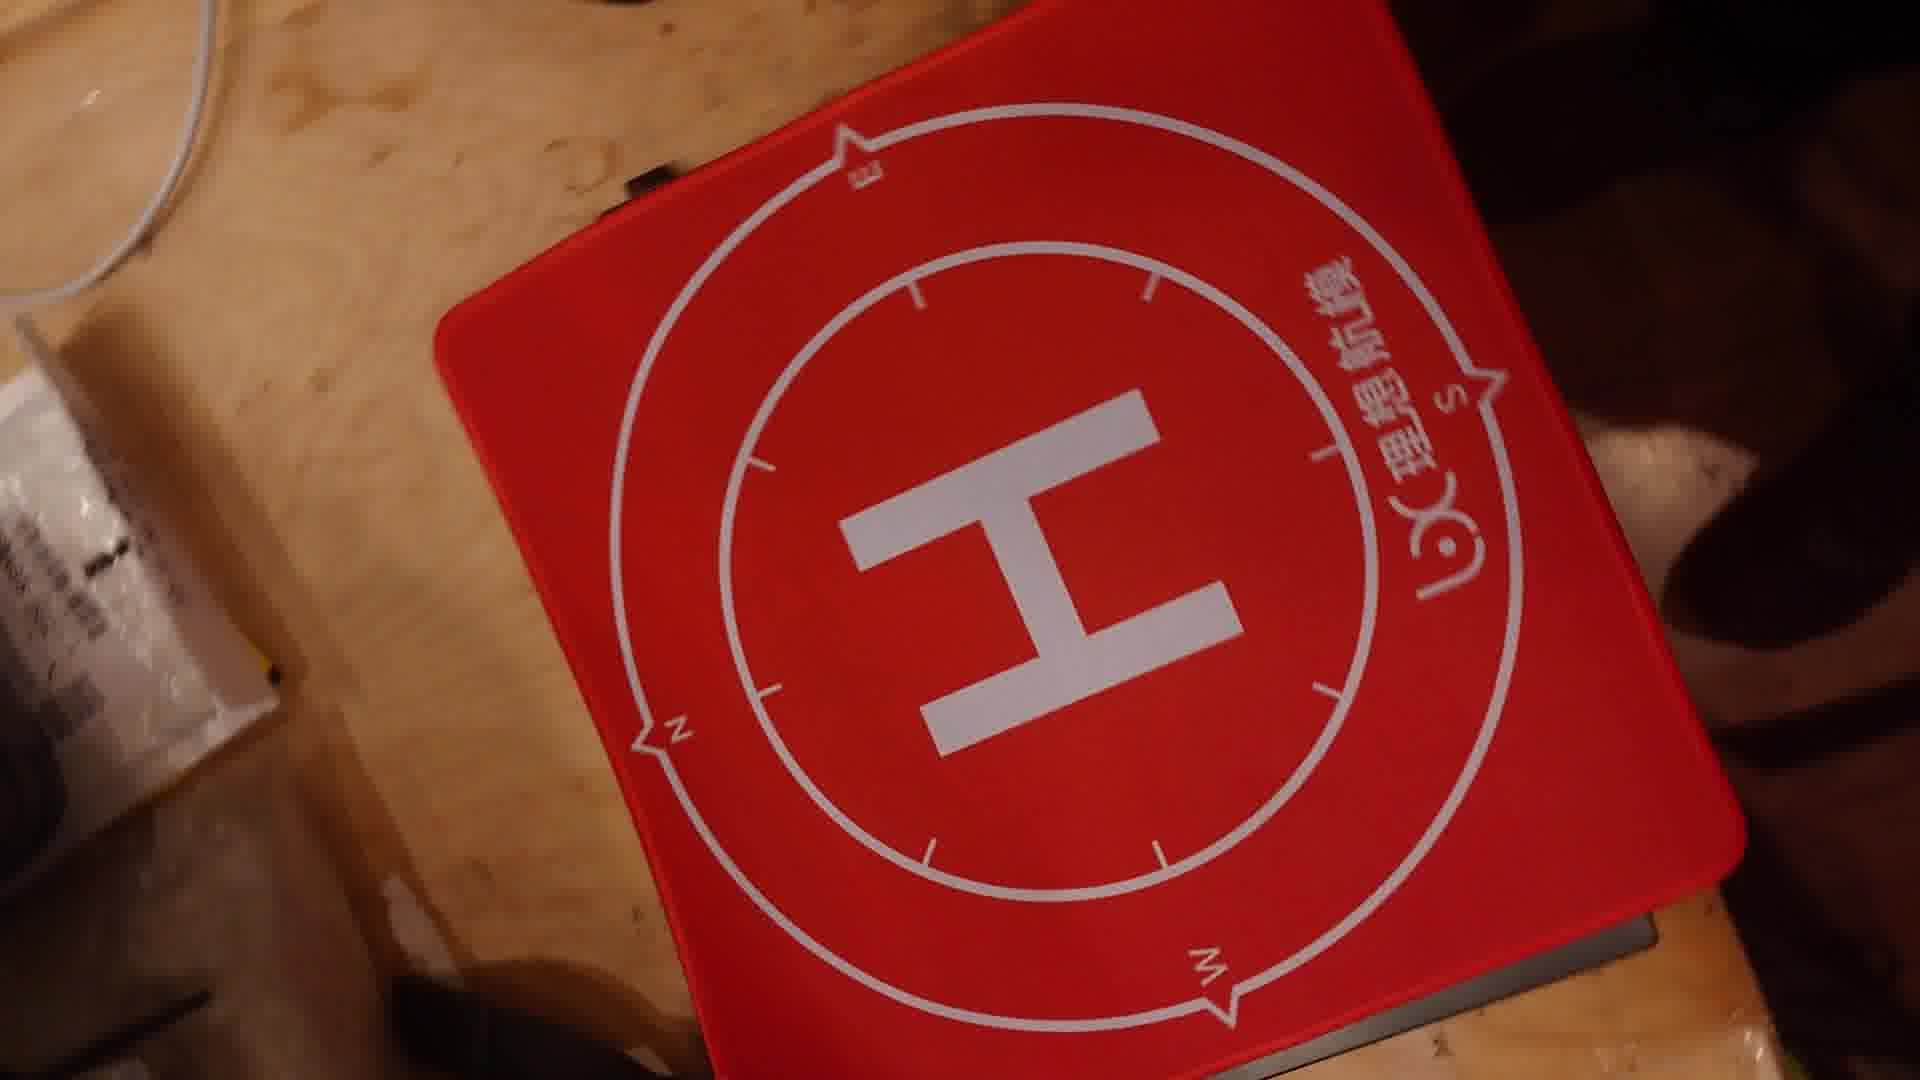H: (835, 386, 1245, 760)
